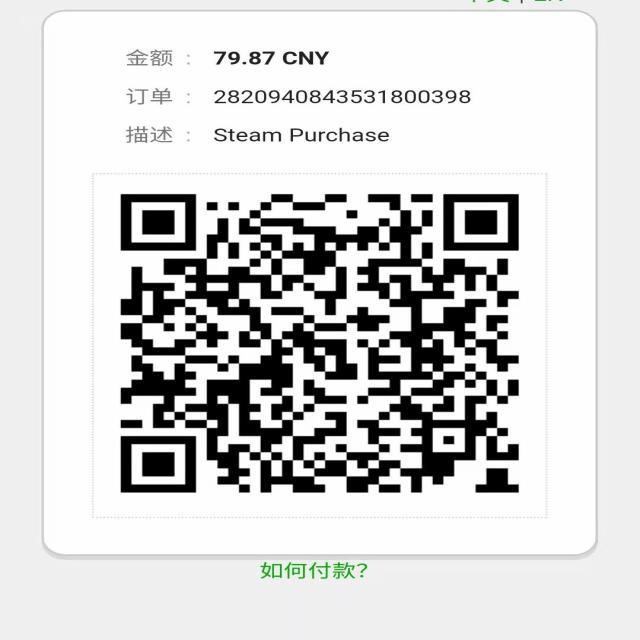qr_code: (120, 192, 521, 494)
